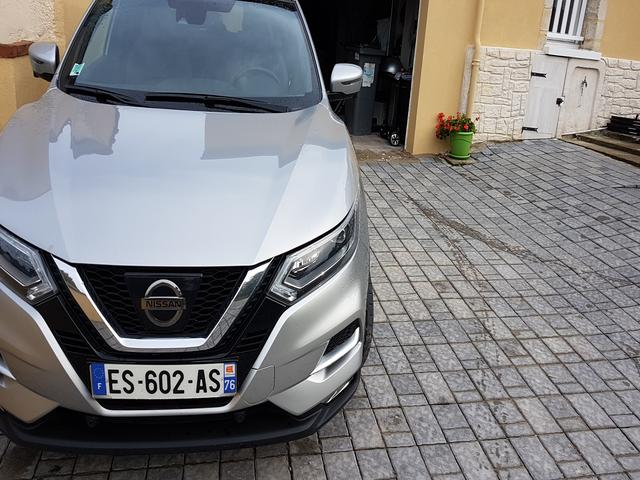Quashquai: (78, 350, 251, 409)
